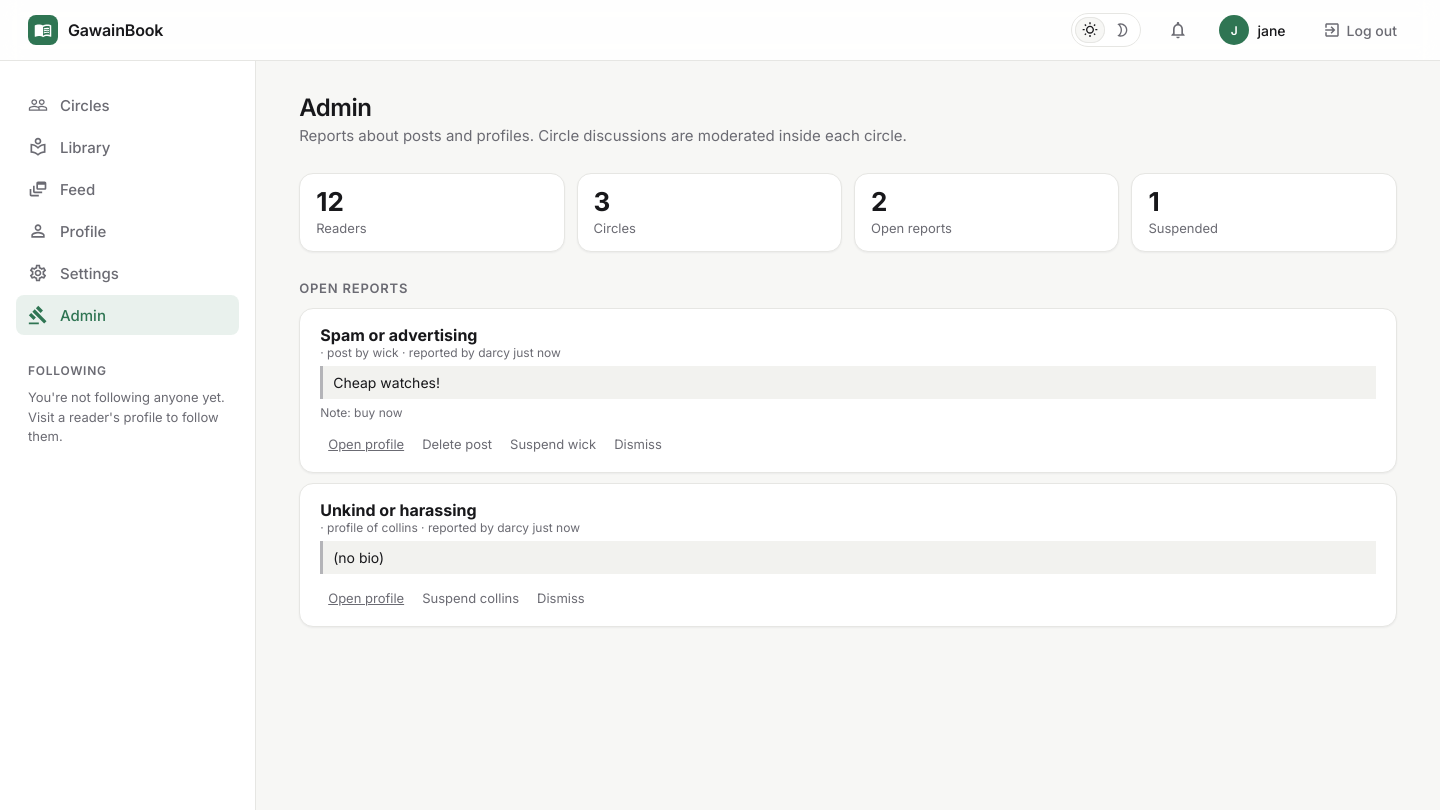
errors are shown
What coordinates should you click on to do the following:
click the button "Suspend collins"
I would click on:
 (471, 598)
Its box is left=414, top=586, right=527, bottom=610.
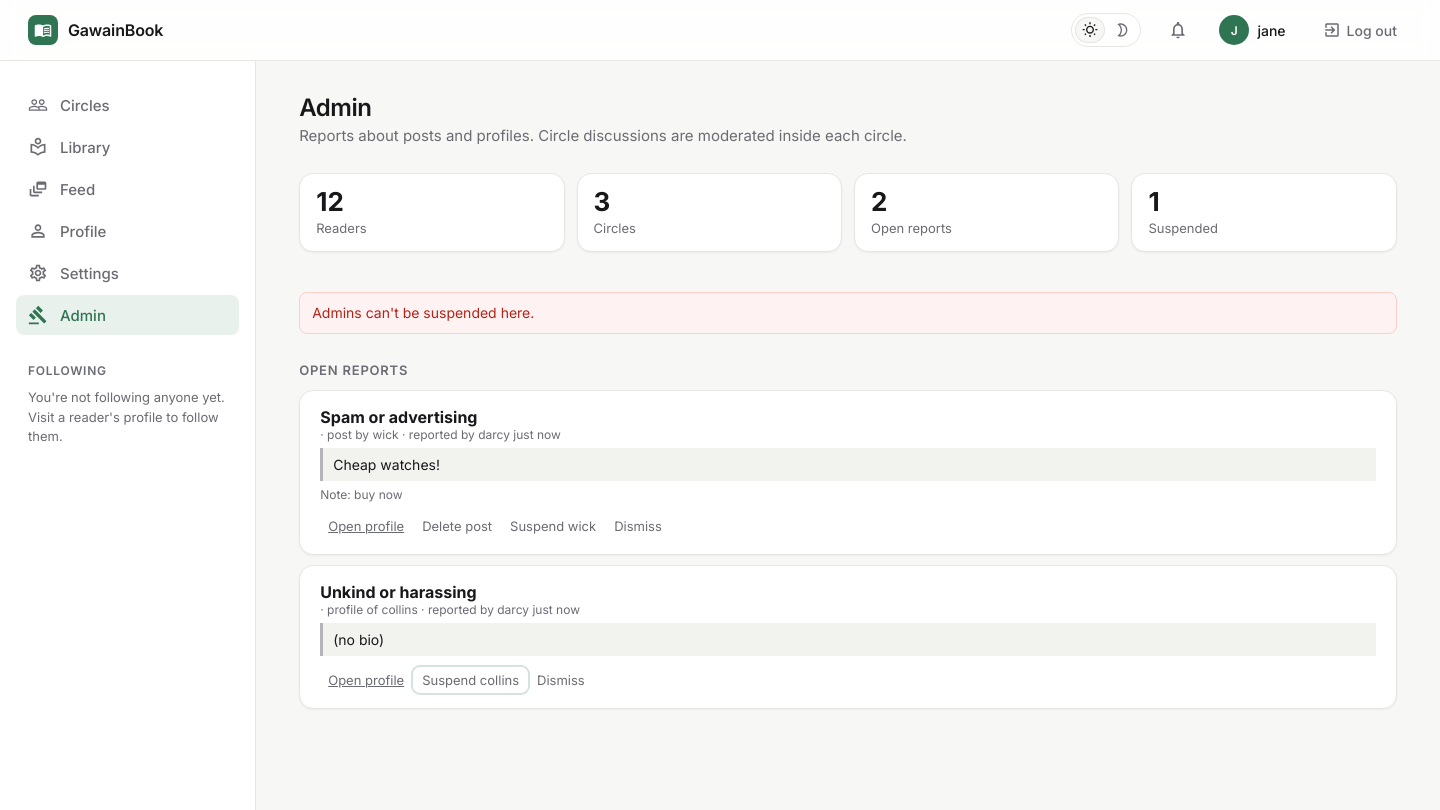
Now the message shows "can't be suspended", box left=312, top=304, right=534, bottom=321
